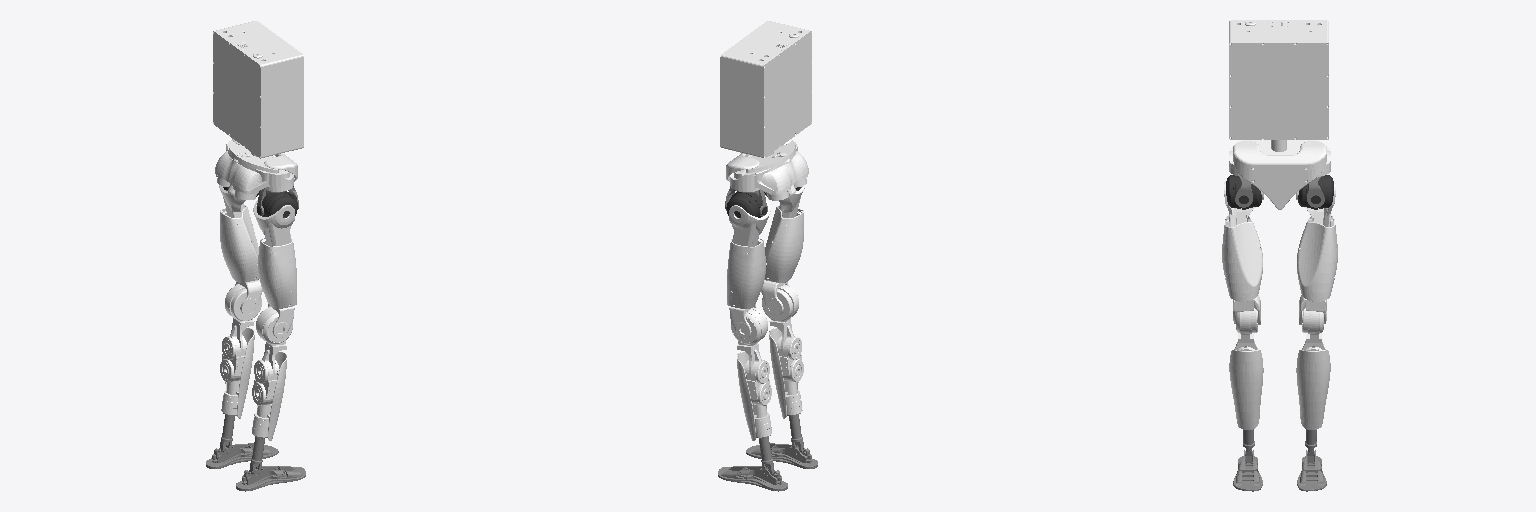
URDF robot description (fdrobot_t1):
<?xml version="1.0" encoding="utf-8"?>
<!-- This URDF was automatically created by SolidWorks to URDF Exporter! Originally created by Stephen Brawner (brawner@gmail.com) 
     Commit Version: 1.6.0-1-g15f4949  Build Version: 1.6.7594.29634
     For more information, please see http://wiki.ros.org/sw_urdf_exporter -->
<robot
  name="fdrobot_t1">
  <mujoco>
    <compiler meshdir="../meshes/" balanceinertia="true" discardvisual="false"/>
  </mujoco>
  <link name="base_link">
    <inertial>
      <origin xyz="-0.01792582 -0.00116544 0.16046544"/>
      <mass value="14.84000000"/>
      <inertia ixx="0.30956858" ixy="-0.00002990" ixz="-0.00293909" iyy="0.26039718" iyz="0.00121977" izz="0.10594006"/>
    </inertial>
    <visual>
      <origin
        xyz="0 0 0"
        rpy="0 0 0" />
      <geometry>
        <mesh
          filename="../meshes/base_link_half.STL" />
      </geometry>
      <material
        name="fd_T1">
        <color
          rgba="1.5 1.5 1.5 1" />
      </material>
    </visual>
    <collision>
      <origin
        xyz="0 0 0"
        rpy="0 0 0" />
      <geometry>
        <mesh
          filename="../meshes/base_link_half.STL" />
      </geometry>
    </collision>
  </link>
  
  <link name="R_hipY_Link">
    <inertial>
      <origin xyz="-0.00690057 -0.00103408 -0.03299255"/>
      <mass value="0.13500000"/>
      <inertia ixx="0.00010071" ixy="0.00000045" ixz="0.00000523" iyy="0.00017411" iyz="-0.00000567" izz="0.00014227"/>
    </inertial>

    <visual>
      <origin
        xyz="0 0 0"
        rpy="0 0 0" />
      <geometry>
        <mesh
          filename="../meshes/R_hipY_Link.STL" />
      </geometry>
      <material
        name="fd_T1">
        <color
          rgba="0.6 0.6 0.6 1" />
      </material>
    </visual>
    <!-- <collision>
      <origin
        xyz="0 0 0"
        rpy="0 0 0" />
      <geometry>
        <mesh
          filename="../meshes/R_hipY_Link.STL" />
      </geometry>
    </collision> -->
  </link>

  <link name="R_hipR_Link">
    <inertial>
      <origin xyz="0.00515634 -0.00001035 0.00001630"/>
      <mass value="2.13000000"/>
      <inertia ixx="0.00225394" ixy="-0.00000000" ixz="-0.00000000" iyy="0.00235874" iyz="-0.00000017" izz="0.00250818"/>
    </inertial>

    <visual>
      <origin
        xyz="0 0 0"
        rpy="0 0 0" />
      <geometry>
        <mesh
          filename="../meshes/R_hipR_Link.STL" />
      </geometry>
      <material
        name="fd_T1">
        <color
          rgba="0.3 0.3 0.3 1" />
      </material>
    </visual>
    <!-- <collision>
      <origin
        xyz="0 0 0"
        rpy="0 0 0" />
      <geometry>
        <mesh
          filename="../meshes/R_hipR_Link.STL" />
      </geometry>
    </collision> -->
  </link>

  <link name="R_hipP_Link">
    <inertial>
      <origin xyz="-0.05052791 -0.01278962 -0.19348864"/>
      <mass value="1.54000000"/>
      <inertia ixx="0.01782645" ixy="-0.00017759" ixz="-0.00279812" iyy="0.01806249" iyz="-0.00089974" izz="0.00265459"/>
    </inertial>
    <visual>
      <origin
        xyz="0 0 0"
        rpy="0 0 0" />
      <geometry>
        <mesh
          filename="../meshes/R_hipP_Link.STL" />
      </geometry>
      <material
        name="fd_T1">
        <color
          rgba="1.5 1.5 1.5 1" />
      </material>
    </visual>
    <!-- <collision>
      <origin
        xyz="0 0 0"
        rpy="0 0 0" />
      <geometry>
        <mesh
          filename="../meshes/R_hipP_Link.STL" />
      </geometry>
    </collision> -->
  </link>

  <link name="R_knee_Link">
    <inertial>
      <origin xyz="-0.00231537 -0.00881299 -0.14680117"/>
      <mass value="3.02000000"/>
      <inertia ixx="0.03021034" ixy="0.00003810" ixz="0.00189012" iyy="0.03061230" iyz="-0.00041596" izz="0.00277855"/>
    </inertial>
    <visual>
      <origin
        xyz="0 0 0"
        rpy="0 0 0" />
      <geometry>
        <mesh
          filename="../meshes/R_knee_Link.STL" />
      </geometry>
      <material
        name="fd_T1">
        <color
          rgba="1.5 1.5 1.5 1" />
      </material>
    </visual>
    <collision>
      <origin
        xyz="0 0 0"
        rpy="0 0 0" />
      <geometry>
        <mesh
          filename="../meshes/R_knee_Link.STL" />
      </geometry>
    </collision>
  </link>

  <link name="R_ankleY_Link">
    <inertial>
      <origin xyz="-0.00001146 0.00015459 -0.05493229"/>
      <mass value="0.11000000"/>
      <inertia ixx="0.00011813" ixy="-0.00000000" ixz="-0.00000000" iyy="0.00011929" iyz="-0.00000000" izz="0.00001839"/>
    </inertial>

    <visual>
      <origin
        xyz="0 0 0"
        rpy="0 0 0" />
      <geometry>
        <mesh
          filename="../meshes/R_ankleY_Link.STL" />
      </geometry>
      <material
        name="fd_T1">
        <color
          rgba="0.6 0.6 0.6 1" />
      </material>
    </visual>
    <!-- <collision>
      <origin
        xyz="0 0 0"
        rpy="0 0 0" />
      <geometry>
        <mesh
          filename="../meshes/R_ankleY_Link.STL" />
      </geometry>
    </collision> -->
  </link>

  <link name="R_ankleR_Link">
    <inertial>
      <origin xyz="-0.00000060 -0.00000665 0.00000251"/>
      <mass value="0.03200000"/>
      <inertia ixx="0.00000171" ixy="0.00000000" ixz="0.00000000" iyy="0.00000171" iyz="-0.00000000" izz="0.00000272"/>
    </inertial>

    <visual>
      <origin
        xyz="0 0 0"
        rpy="0 0 0" />
      <geometry>
        <mesh
          filename="../meshes/R_ankleR_Link.STL" />
      </geometry>
      <material
        name="fd_T1">
        <color
          rgba="0.6 0.6 0.6 1" />
      </material>
    </visual>
    <!-- <collision>
      <origin
        xyz="0 0 0"
        rpy="0 0 0" />
      <geometry>
        <mesh
          filename="../meshes/R_ankleR_Link.STL" />
      </geometry>
    </collision> -->
  </link>

  <link name="R_ankleP_Link">
    <inertial>
      <origin xyz="0.03288696 -0.00059932 -0.02627222"/>
      <mass value="0.38000000"/>
      <inertia ixx="0.00011977" ixy="0.00001031" ixz="0.00003164" iyy="0.00076073" iyz="-0.00000246" izz="0.00078746"/>
    </inertial>

    <visual>
      <origin
        xyz="0 0 0"
        rpy="0 0 0" />
      <geometry>
        <mesh
          filename="../meshes/R_ankleP_Link.STL" />
      </geometry>
      <material
        name="fd_T1">
        <color
          rgba="0.6 0.6 0.6 1" />
      </material>
    </visual>
    <collision>
      <origin
        xyz="0 0 0"
        rpy="0 0 0" />
      <geometry>
        <mesh
          filename="../meshes/R_ankleP_Link.obj" />
      </geometry>
    </collision>
  </link>

  <link name="L_hipY_Link">
    <inertial>
      <origin xyz="-0.00846725 0.00122011 -0.03373783"/>
      <mass value="0.13500000"/>
      <inertia ixx="0.00010071" ixy="-0.00000045" ixz="0.00000523" iyy="0.00017411" iyz="0.00000567" izz="0.00014227"/>
    </inertial>

    <visual>
      <origin
        xyz="0 0 0"
        rpy="0 0 0" />
      <geometry>
        <mesh
          filename="../meshes/L_hipY_Link.STL" />
      </geometry>
      <material
        name="fd_T1">
        <color
          rgba="0.6 0.6 0.6 1" />
      </material>
    </visual>
    <!-- <collision>
      <origin
        xyz="0 0 0"
        rpy="0 0 0" />
      <geometry>
        <mesh
          filename="../meshes/L_hipY_Link.STL" />
      </geometry>
    </collision> -->
  </link>

  <link name="L_hipR_Link">
    <inertial>
      <origin xyz="0.00520149 -0.00000041 0.00001630"/>
      <mass value="2.13000000"/>
      <inertia ixx="0.00225394" ixy="-0.00000000" ixz="-0.00000000" iyy="0.00235874" iyz="-0.00000017" izz="0.00250818"/>
    </inertial>

    <visual>
      <origin
        xyz="0 0 0"
        rpy="0 0 0" />
      <geometry>
        <mesh
          filename="../meshes/L_hipR_Link.STL" />
      </geometry>
      <material
        name="fd_T1">
        <color
          rgba="0.3 0.3 0.3 1" />
      </material>
    </visual>
    <!-- <collision>
      <origin
        xyz="0 0 0"
        rpy="0 0 0" />
      <geometry>
        <mesh
          filename="../meshes/L_hipR_Link.STL" />
      </geometry>
    </collision> -->
  </link>

  <link name="L_hipP_Link">
    <inertial>
      <origin xyz="-0.05056609 0.01269854 -0.19392144"/>
      <mass value="1.54000000"/>
      <inertia ixx="0.01782584" ixy="0.00017752" ixz="-0.00279787" iyy="0.01806181" iyz="0.00089958" izz="0.00265445"/>
    </inertial>

    <visual>
      <origin
        xyz="0 0 0"
        rpy="0 0 0" />
      <geometry>
        <mesh
          filename="../meshes/L_hipP_Link.STL" />
      </geometry>
      <material
        name="fd_T1">
        <color
          rgba="1.5 1.5 1.5 1" />
      </material>
    </visual>
    <!-- <collision>
      <origin
        xyz="0 0 0"
        rpy="0 0 0" />
      <geometry>
        <mesh
          filename="../meshes/L_hipP_Link.STL" />
      </geometry>
    </collision> -->
  </link>

  <link name="L_knee_Link">
    <inertial>
      <origin xyz="-0.00233767 0.00884361 -0.14666966"/>
      <mass value="3.02000000"/>
      <inertia ixx="0.03021031" ixy="-0.00003810" ixz="0.00189012" iyy="0.03061227" iyz="0.00041593" izz="0.00277855"/>
    </inertial>

    <visual>
      <origin
        xyz="0 0 0"
        rpy="0 0 0" />
      <geometry>
        <mesh
          filename="../meshes/L_knee_Link.STL" />
      </geometry>
      <material
        name="fd_T1">
        <color
          rgba="1.5 1.5 1.5 1" />
      </material>
    </visual>
    <collision>
      <origin
        xyz="0 0 0"
        rpy="0 0 0" />
      <geometry>
        <mesh
          filename="../meshes/L_knee_Link.STL" />
      </geometry>
    </collision>
  </link>

  <link name="L_ankleY_Link">
    <inertial>
      <origin xyz="-0.00001144 -0.00010759 -0.05482039"/>
      <mass value="0.11000000"/>
      <inertia ixx="0.00011813" ixy="0.00000000" ixz="-0.00000000" iyy="0.00011929" iyz="0.00000000" izz="0.00001839"/>
    </inertial>

    <visual>
      <origin
        xyz="0 0 0"
        rpy="0 0 0" />
      <geometry>
        <mesh
          filename="../meshes/L_ankleY_Link.STL" />
      </geometry>
      <material
        name="fd_T1">
        <color
          rgba="0.6 0.6 0.6 1" />
      </material>
    </visual>
    <!-- <collision>
      <origin
        xyz="0 0 0"
        rpy="0 0 0" />
      <geometry>
        <mesh
          filename="../meshes/L_ankleY_Link.STL" />
      </geometry>
    </collision> -->
  </link>

  <link name="L_ankleR_Link">
    <inertial>
      <origin xyz="-0.00000060 0.00000342 0.00000251"/>
      <mass value="0.03200000"/>
      <inertia ixx="0.00000171" ixy="-0.00000000" ixz="0.00000000" iyy="0.00000171" iyz="0.00000000" izz="0.00000272"/>
    </inertial>

    <visual>
      <origin
        xyz="0 0 0"
        rpy="0 0 0" />
      <geometry>
        <mesh
          filename="../meshes/L_ankleR_Link.STL" />
      </geometry>
      <material
        name="fd_T1">
        <color
          rgba="0.6 0.6 0.6 1" />
      </material>
    </visual>
    <!-- <collision>
      <origin
        xyz="0 0 0"
        rpy="0 0 0" />
      <geometry>
        <mesh
          filename="../meshes/L_ankleR_Link.STL" />
      </geometry>
    </collision> -->
  </link>

  <link name="L_ankleP_Link">
    <inertial>
      <origin xyz="0.03370680 0.00066451 -0.02538851"/>
      <mass value="0.38000000"/>
      <inertia ixx="0.00011857" ixy="-0.00001037" ixz="0.00001408" iyy="0.00076073" iyz="0.00000219" izz="0.00078866"/>
    </inertial>

    <visual>
      <origin
        xyz="0 0 0"
        rpy="0 0 0" />
      <geometry>
        <mesh
          filename="../meshes/L_ankleP_Link.STL" />
      </geometry>
      <material
        name="fd_T1">
        <color
          rgba="0.6 0.6 0.6 1" />
      </material>
    </visual>
    <collision>
      <origin
        xyz="0 0 0"
        rpy="0 0 0" />
      <geometry>
        <mesh
          filename="../meshes/L_ankleP_Link.obj" />
      </geometry>
    </collision>
  </link>

  <!-- joint -->
  <joint name="leg_right_hipy" type="revolute">
    <origin
      xyz="0.01584881 -0.087 -0.0106761"
      rpy="0 0 -0.0135049416451496" />
    <parent
      link="base_link" />
    <child
      link="R_hipY_Link" />
    <axis
      xyz="0 0 -1" />
    <limit lower="-0.5" upper="0.5" effort="90" velocity="5" />
    <dynamics damping="0." friction="0." />
  </joint>

  <joint name="leg_right_hipr"
    type="revolute">
    <origin
      xyz="0.00048975139172347 -0.00600000000000003 -0.0630000000000002"
      rpy="0.073848446215598 0 0" />
    <parent
      link="R_hipY_Link" />
    <child
      link="R_hipR_Link" />
    <axis
      xyz="-1 0 0" />
    <limit lower="-0.2" upper="0.5" effort="150" velocity="5" />
    <dynamics damping="0." friction="0." />  
  </joint>

  <joint name="leg_right_hipp"
    type="revolute">
    <origin
      xyz="0.000750248608276216 -0.000605000000000001 0"
      rpy="0 -0.221180468392862 0" />
    <parent
      link="R_hipR_Link" />
    <child
      link="R_hipP_Link" />
    <axis
      xyz="0 -1 0" />
    <limit lower="-0.3" upper="1.2" effort="200" velocity="5" />
    <dynamics damping="0." friction="0." />
  </joint>

  <joint name="leg_right_knee"
    type="revolute">
    <origin
      xyz="-0.0830043203827464 -0.0150331253243573 -0.349140701138534"
      rpy="-0.0602241343835302 0.401634851584503 0.00375354549252053" />
    <parent
      link="R_hipP_Link" />
    <child
      link="R_knee_Link" />
    <axis
      xyz="0 1 0" />
    <limit lower="-0.0" upper="1.5" effort="250" velocity="5" />
    <dynamics damping="0." friction="0." />
  </joint>

  
  <joint name="leg_right_ankley"
    type="fixed">
    <origin
      xyz="0.0157752516698513 -0.00449999999999065 -0.318442600848389"
      rpy="0 -0.0227375486957188 -3.16972512642549E-05" />
    <parent
      link="R_knee_Link" />
    <child
      link="R_ankleY_Link" />
    <axis
      xyz="0 0 -1" />
    <limit lower="-3.14" upper="3.14" effort="148" velocity="5" />
    <dynamics damping="0." friction="0." />
  </joint>

  
  <joint name="leg_right_ankler"
    type="revolute">
    <origin
      xyz="0.00100000000000033 0 -0.109"
      rpy="0.0141734724213509 0 0" />
    <parent
      link="R_ankleY_Link" />
    <child
      link="R_ankleR_Link" />
    <axis
      xyz="-1 0 0" />
    <limit lower="-0.2" upper="0.2" effort="40" velocity="5" />
    <dynamics damping="0." friction="0.1" />
  </joint>

  <joint name="leg_right_anklep"
    type="revolute">
    <origin
      xyz="0 0 0"
      rpy="-0.03 -0.165 0" />
    <parent
      link="R_ankleR_Link" />
    <child
      link="R_ankleP_Link" />
    <axis
      xyz="0 -1 0" />
    <limit lower="-0.25" upper="0.5" effort="80" velocity="5" />
    <dynamics damping="0." friction="0.1" />
  </joint>

  <joint name="leg_left_hipy"
    type="revolute">
    <origin
      xyz="0.01584881 0.087 -0.0106761"
      rpy="0 0 0.0135049416451357" />
    <parent
      link="base_link" />
    <child
      link="L_hipY_Link" />
    <axis
      xyz="0 0 1" />
    <limit lower="-0.5" upper="0.5" effort="90" velocity="5" />
    <dynamics damping="0." friction="0." />
  </joint>

  <joint name="leg_left_hipr"
    type="revolute">
    <origin
      xyz="0.000489751391723026 0.00600000000000001 -0.063"
      rpy="-0.073848446215598 0 0" />
    <parent
      link="L_hipY_Link" />
    <child
      link="L_hipR_Link" />
    <axis
      xyz="1 0 0" />
    <limit lower="-0.2" upper="0.5" effort="150" velocity="5" />
    <dynamics damping="0." friction="0." />
  </joint>

  <joint name="leg_left_hipp"
    type="revolute">
    <origin
      xyz="0.000750248608277104 0.000605000000000022 0"
      rpy="0 -0.221180468392862 0" />
    <parent
      link="L_hipR_Link" />
    <child
      link="L_hipP_Link" />
    <axis
      xyz="0 -1 0" />
    <limit lower="-0.3" upper="1.2" effort="200" velocity="5" />
    <dynamics damping="0." friction="0." />
  </joint>
  
  <joint name="leg_left_knee"
    type="revolute">
    <origin
      xyz="-0.0830043203827473 0.0150331253243573 -0.349140701138534"
      rpy="0.0602241343835302 0.401634851584503 -0.00375354549252036" />
    <parent
      link="L_hipP_Link" />
    <child
      link="L_knee_Link" />
    <axis
      xyz="0 1 0" />
    <limit lower="-0.0" upper="1.5" effort="250" velocity="5" />
    <dynamics damping="0." friction="0." />
  </joint>

  <joint name="leg_left_ankley"
    type="fixed">
    <origin
      xyz="0.0157752516698508 0.00449999999999064 -0.318442600848389"
      rpy="0 -0.0227375486957189 3.16972512642358E-05" />
    <parent
      link="L_knee_Link" />
    <child
      link="L_ankleY_Link" />
    <axis
      xyz="0 0 1" />
    <limit lower="-3.14" upper="3.14" effort="100" velocity="5" />
    <dynamics damping="0." friction="0." />
  </joint>

  <joint name="leg_left_ankler"
    type="revolute">
    <origin
      xyz="0.00099999999999989 0 -0.109"
      rpy="-0.0141734724213464 0 0" />
    <parent
      link="L_ankleY_Link" />
    <child
      link="L_ankleR_Link" />
    <axis
      xyz="1 0 0" />
    <limit lower="-0.2" upper="0.2" effort="40" velocity="5" />
    <dynamics damping="0." friction="0.1" />
  </joint>

  <joint name="leg_left_anklep"
    type="revolute">
    <origin
      xyz="0 0 0"
      rpy="0.03 -0.165 0" />
    <parent
      link="L_ankleR_Link" />
    <child
      link="L_ankleP_Link" />
    <axis
      xyz="0 -1 0" />
    <limit lower="-0.25" upper="0.5" effort="80" velocity="5" />
    <dynamics damping="0." friction="0.1" />
  </joint>
</robot>

--- Render facts (derived) ---
3 views of the same robot in one strip: view 1: azimuth 30°, elevation 25°; view 2: azimuth 150°, elevation 25°; view 3: azimuth 270°, elevation 25° (orthographic).
Model fdrobot_t1 with 15 links and 14 joints (12 revolute, 2 fixed), rooted at base_link, posed all joints at 0.
Links seen in each view (by area): view 1: base_link, R_hipP_Link, L_knee_Link, R_knee_Link, L_hipP_Link, R_ankleP_Link, L_ankleP_Link, R_hipR_Link; view 2: base_link, L_hipP_Link, R_knee_Link, L_knee_Link, R_hipP_Link, L_ankleP_Link, R_ankleP_Link, L_hipR_Link; view 3: base_link, R_hipP_Link, L_hipP_Link, R_knee_Link, L_knee_Link, R_ankleP_Link, L_ankleP_Link, R_hipR_Link, L_hipR_Link.
Boxes of the visible links, box(x1,y1,x2,y2) form: base_link: box(213, 21, 303, 199); R_hipP_Link: box(253, 200, 296, 337); L_knee_Link: box(220, 284, 261, 418); R_knee_Link: box(252, 307, 292, 440); L_hipP_Link: box(219, 185, 262, 315); R_ankleP_Link: box(236, 466, 305, 491); L_ankleP_Link: box(206, 443, 278, 468); R_hipR_Link: box(257, 191, 297, 217); base_link: box(720, 21, 811, 200); L_hipP_Link: box(727, 200, 770, 338); R_knee_Link: box(762, 284, 803, 418); L_knee_Link: box(731, 307, 771, 440); R_hipP_Link: box(761, 185, 804, 315); L_ankleP_Link: box(718, 466, 787, 491); R_ankleP_Link: box(746, 443, 817, 468); L_hipR_Link: box(726, 191, 766, 217); base_link: box(1229, 20, 1330, 209); R_hipP_Link: box(1222, 182, 1263, 324); L_hipP_Link: box(1296, 182, 1337, 324); R_knee_Link: box(1229, 308, 1263, 429); L_knee_Link: box(1296, 308, 1330, 429); R_ankleP_Link: box(1233, 450, 1262, 491); L_ankleP_Link: box(1297, 450, 1326, 491); R_hipR_Link: box(1226, 175, 1261, 209); L_hipR_Link: box(1298, 175, 1333, 209).
Size in the robot's own frame: 0.2144 by 0.302 by 1.28 metres.
15 mesh visuals loaded from 15 distinct referenced files (15 binary STL).
